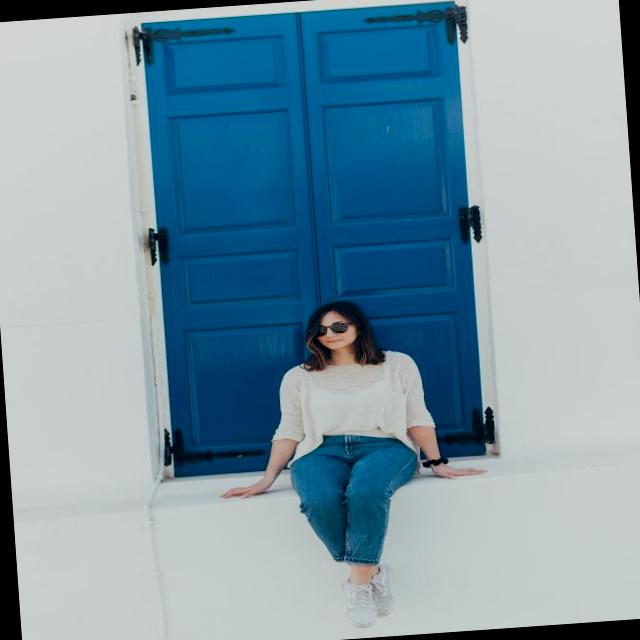person: (205, 290, 498, 636)
